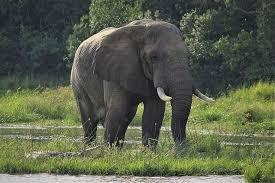elephant: (70, 20, 203, 148)
